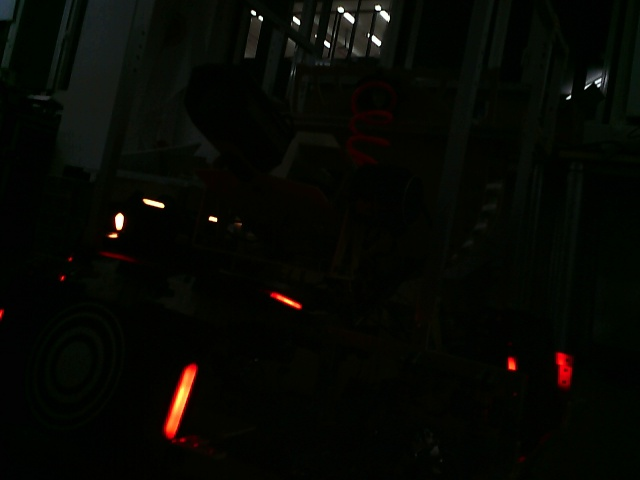lamp: (163, 355, 198, 447)
